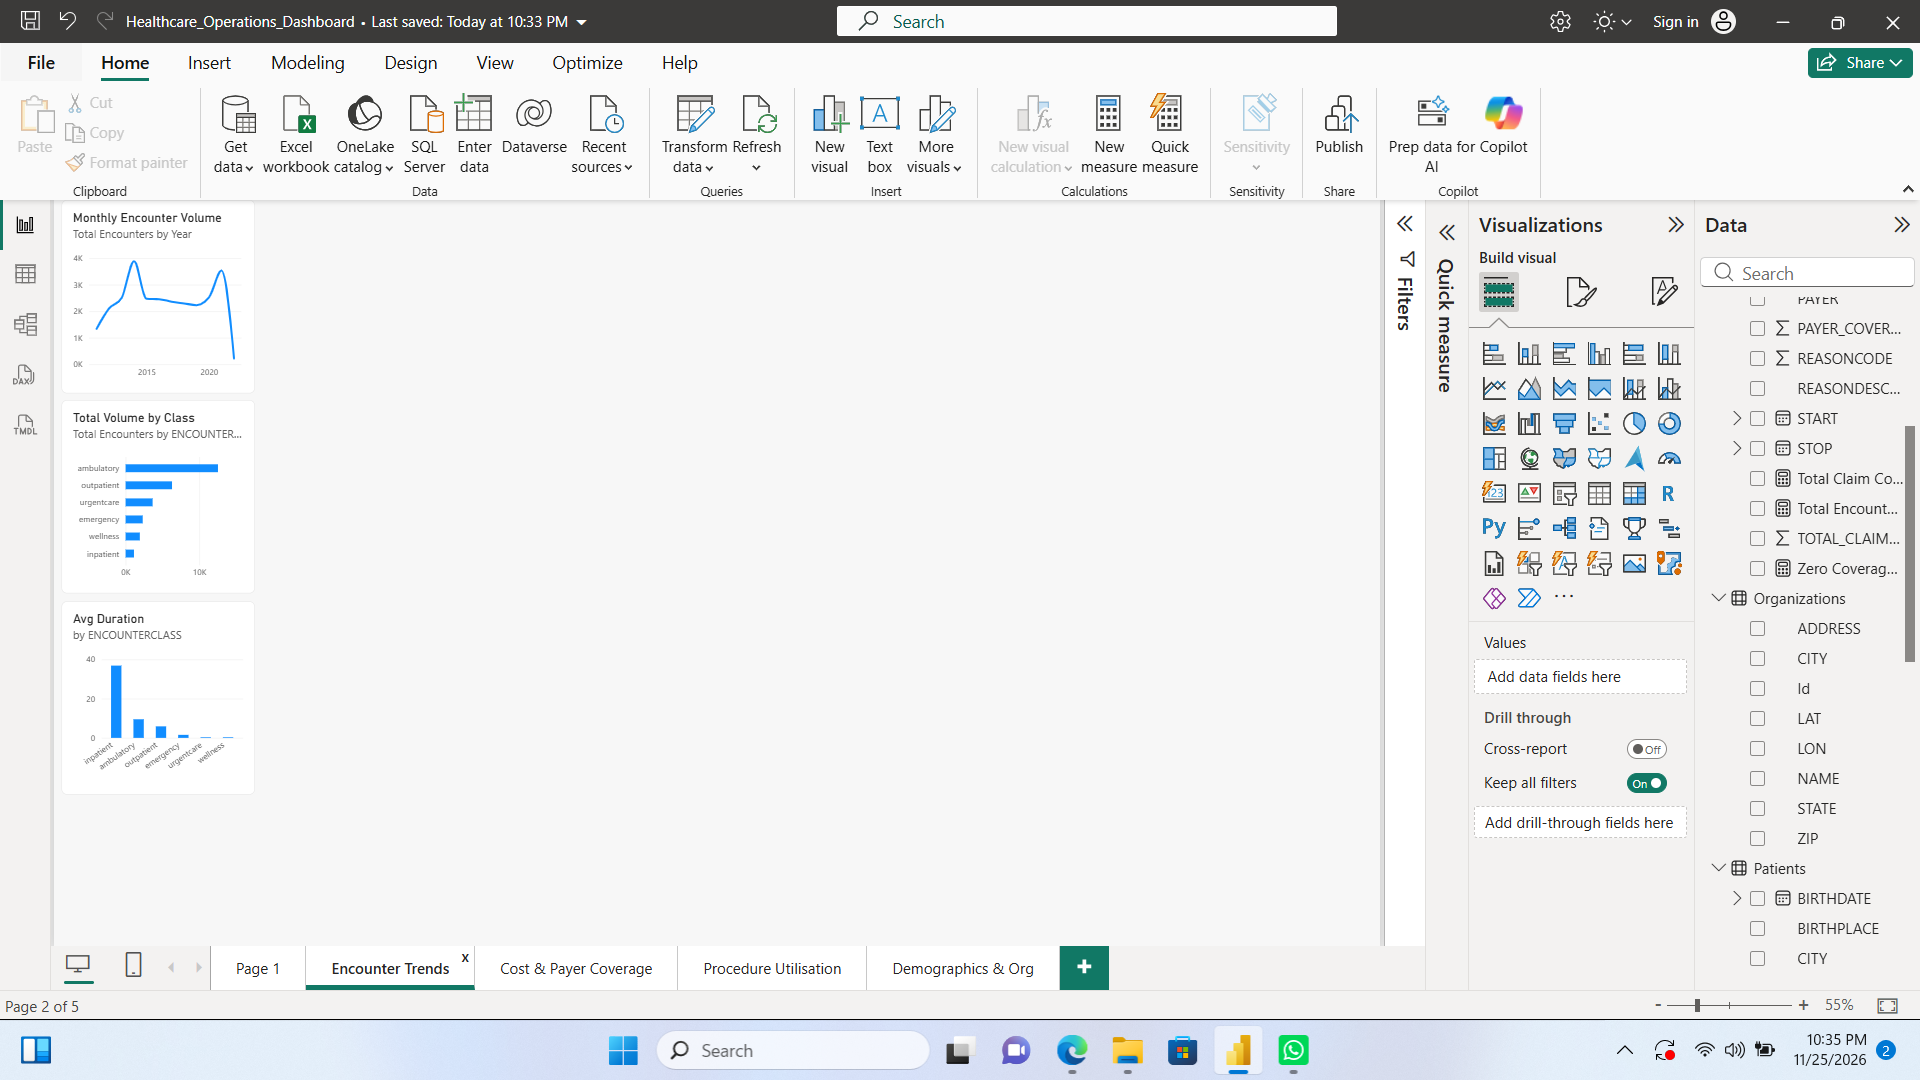

The page's visual inventory and layout, read from the dashboard file:
{"tool":"powerbi","page":{"name":"Encounter Trends","canvas":[1920,1080],"ordinal":1},"visuals":[{"type":"lineChart","title":"Monthly Encounter Volume","fields":{"Category":["Encounters.START.Variation.Date Hierarchy.Year","Encounters.START.Variation.Date Hierarchy.Quarter","Encounters.START.Variation.Date Hierarchy.Month","Encounters.START.Variation.Date Hierarchy.Day"],"Y":["Encounters.Total Encounters"]},"box":[10,0,280,280],"z":0},{"type":"clusteredBarChart","title":"Total Volume by Class","fields":{"Category":["Encounters.ENCOUNTERCLASS"],"Y":["Encounters.Total Encounters"]},"box":[10,290,280,280],"z":1},{"type":"clusteredColumnChart","fields":{"Category":["Encounters.ENCOUNTERCLASS"],"Y":["Encounters.Avg Duration"]},"box":[10,580,280,280],"z":2}]}

Visuals, with their boxes on the page's 1920x1080 design canvas (x1, y1, x2, y2). These are canvas units, not pixel positions in the 1920x1080 screenshot, which may show the page scaled, cropped or inside an application window:
"Monthly Encounter Volume" lineChart: rect(10, 0, 290, 280)
"Total Volume by Class" clusteredBarChart: rect(10, 290, 290, 570)
clusteredColumnChart - Encounters.ENCOUNTERCLASS x Encounters.Avg Duration: rect(10, 580, 290, 860)
